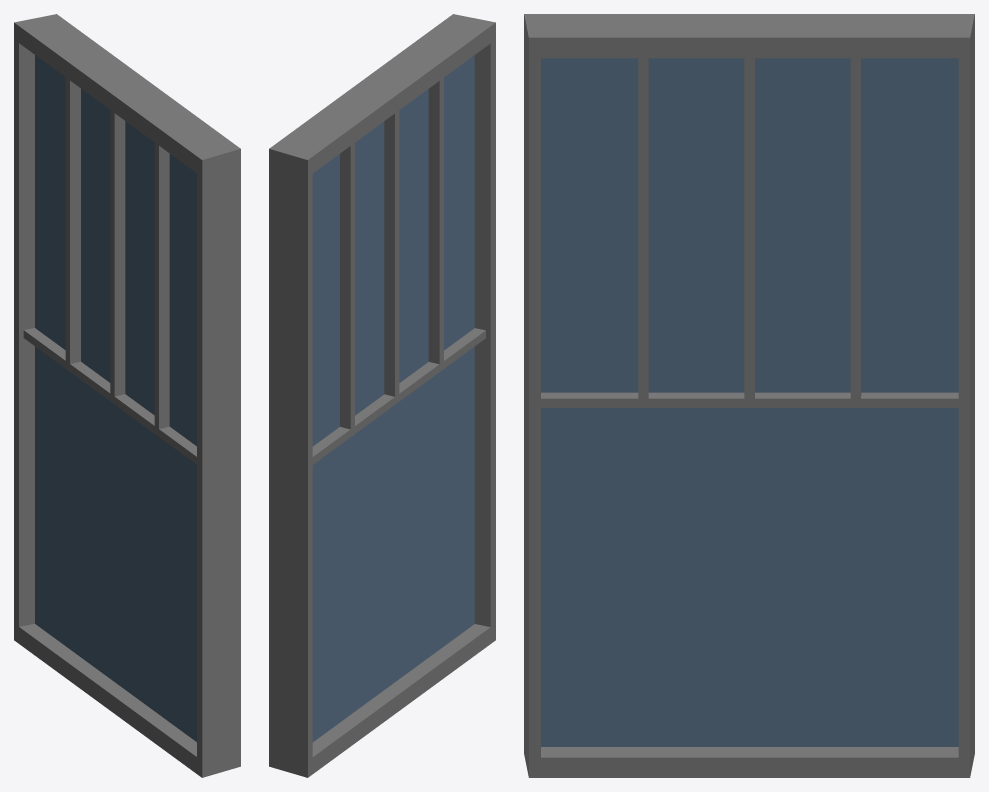
File: SM_Build_GlassFrameWithPivotOnWall.FBX
3 views of the same model, side by side, from view 1: azimuth 30°, elevation 25°; view 2: azimuth 150°, elevation 25°; view 3: azimuth 270°, elevation 25° (orthographic). The views are drawn at different scales.
Parts seen in each view (by area): view 1: SM_Build_GlassFrameWithPivotOnWall; view 2: SM_Build_GlassFrameWithPivotOnWall; view 3: SM_Build_GlassFrameWithPivotOnWall.
Part boxes in pixels (x1,y1,x2,y2): SM_Build_GlassFrameWithPivotOnWall: [14, 14, 240, 777]; SM_Build_GlassFrameWithPivotOnWall: [269, 14, 495, 777]; SM_Build_GlassFrameWithPivotOnWall: [524, 14, 974, 777].
Bounding box in the file's own units: 25 × 362 × 200.
